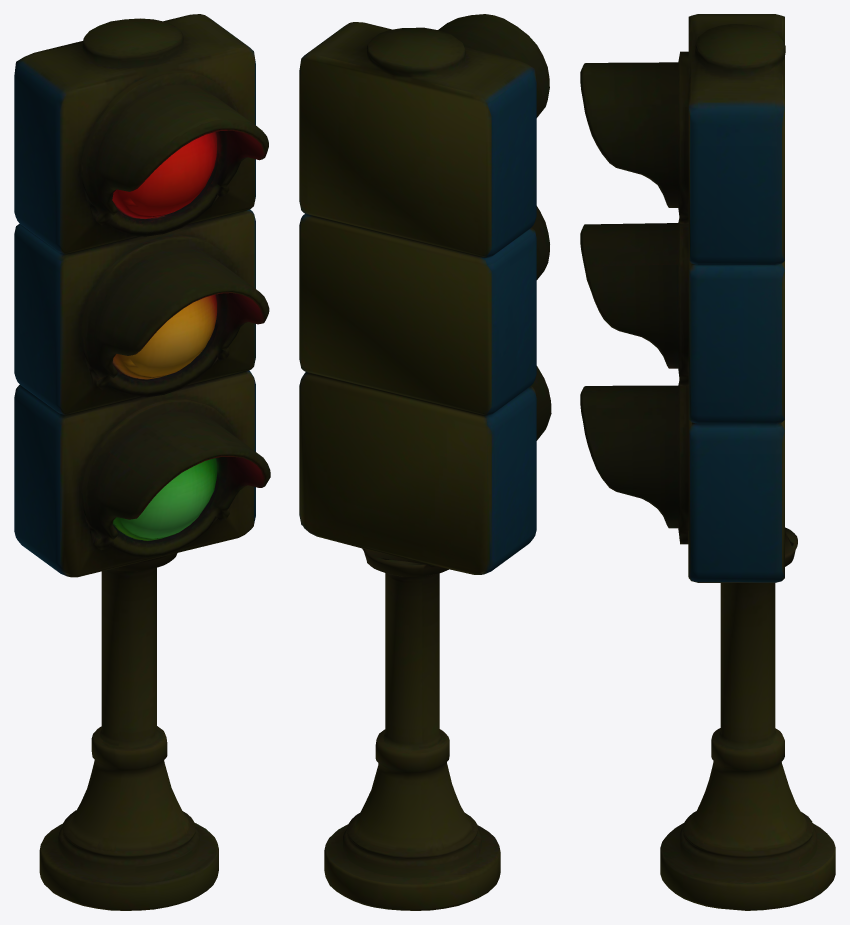
The model's file is full_traffic_light_bb6a606f_v1.glb.
3 views of the same model, side by side, from view 1: azimuth 30°, elevation 25°; view 2: azimuth 150°, elevation 25°; view 3: azimuth 270°, elevation 25° (orthographic).
Parts seen in each view (by area): view 1: material; view 2: material; view 3: material.
Part boxes in pixels (x1,y1,x2,y2): material: (14, 14, 270, 910); material: (299, 14, 551, 910); material: (580, 14, 835, 910).
Bounding box in the file's own units: 0.4706 × 1.9 × 0.5292.
Materials: 1 (1 with a texture image).
